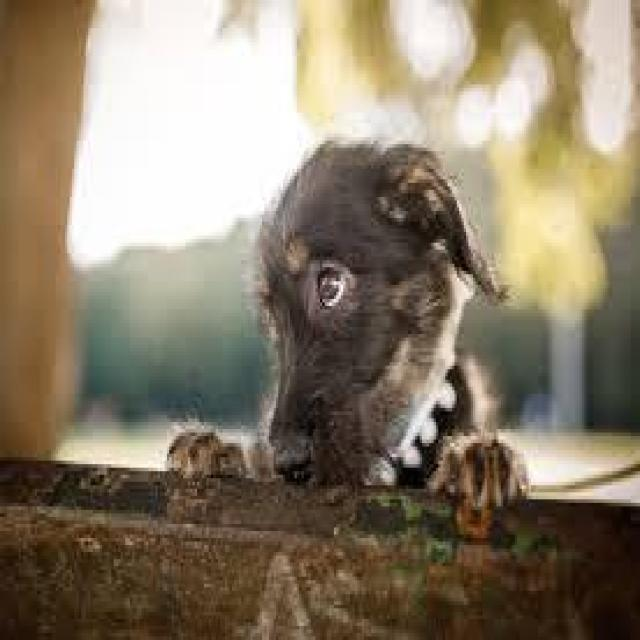Dog: (246, 116, 514, 488)
